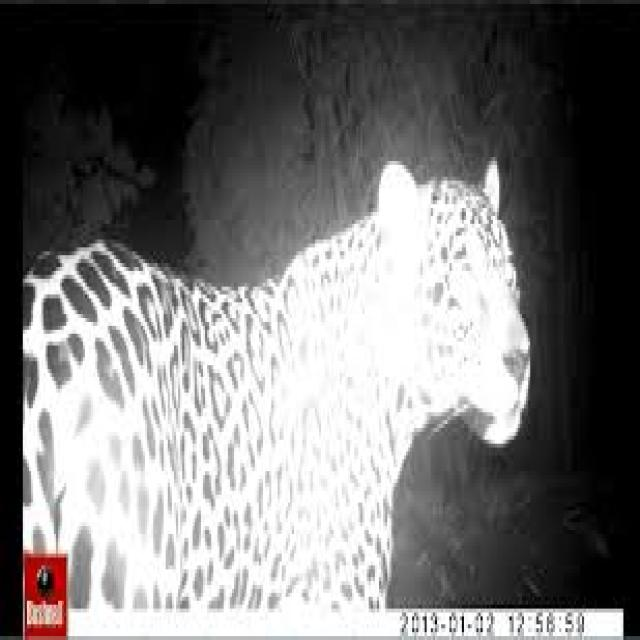Jaguar: (52, 157, 536, 507)
